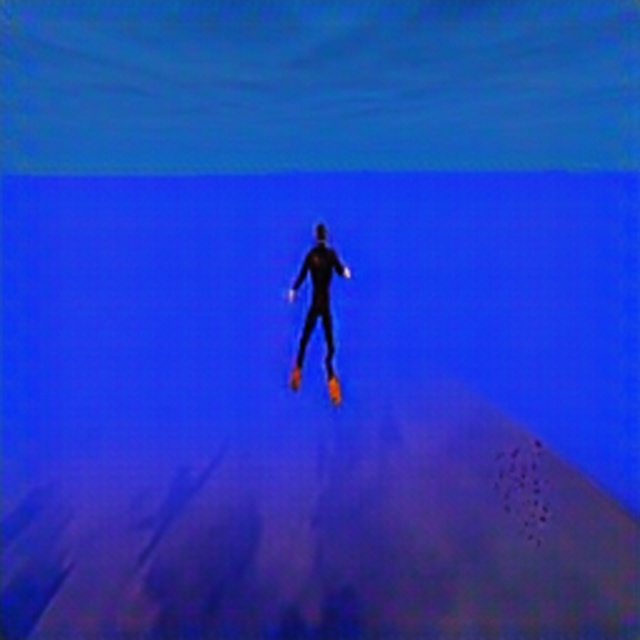diver: (284, 218, 353, 405)
